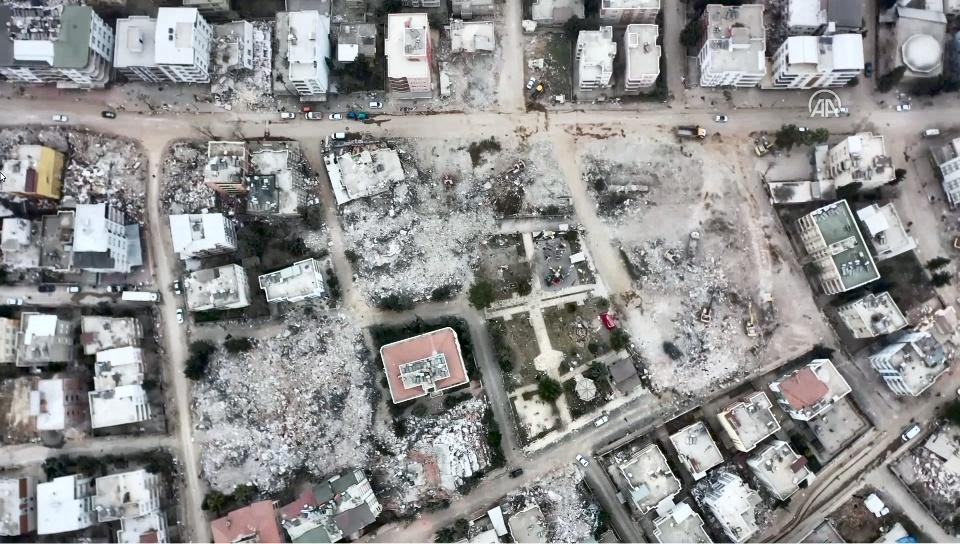kapali: (336, 297, 434, 526), (637, 326, 799, 431)
